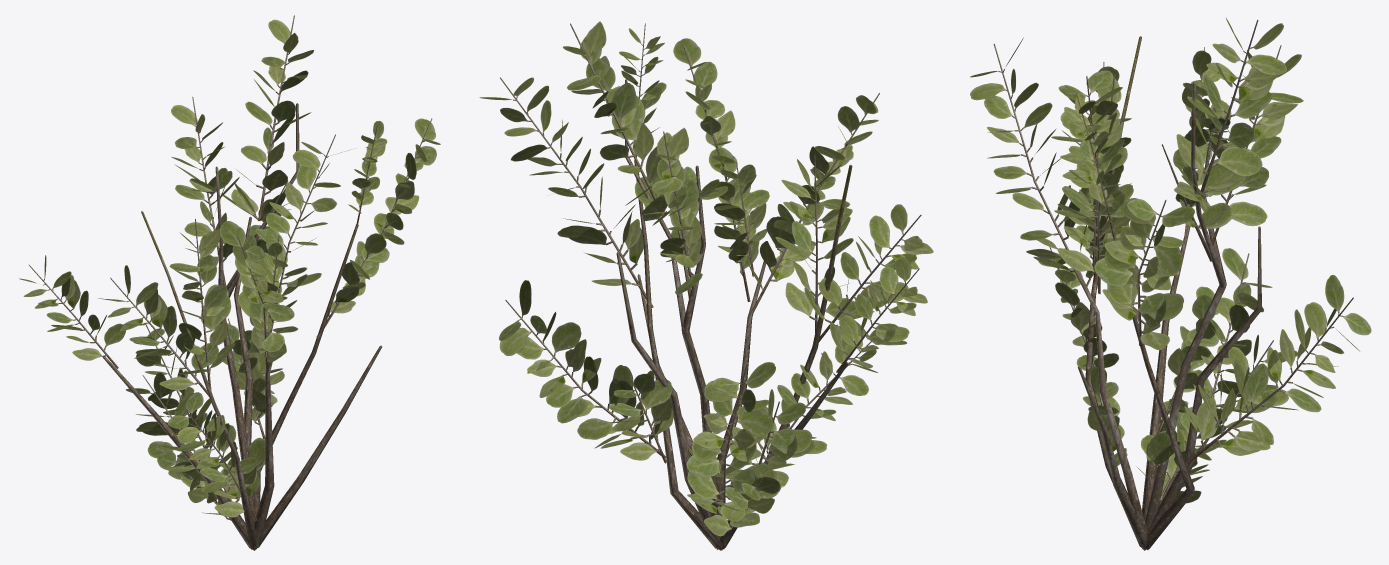
File: searsia_lucida.glb
3 views of the same model, side by side, from view 1: azimuth 30°, elevation 25°; view 2: azimuth 150°, elevation 25°; view 3: azimuth 270°, elevation 25° (orthographic). The views are drawn at different scales.
Visible parts, largest first — view 1: searsia_lucida_f_LOD2; view 2: searsia_lucida_f_LOD2; view 3: searsia_lucida_f_LOD2.
Part boxes in pixels (x1,y1,x2,y2): searsia_lucida_f_LOD2: (19,15,440,550); searsia_lucida_f_LOD2: (479,21,933,550); searsia_lucida_f_LOD2: (970,17,1371,550).
Bounding box in the file's own units: 0.661 × 0.7386 × 0.4705.
2 materials, 2 textured.
